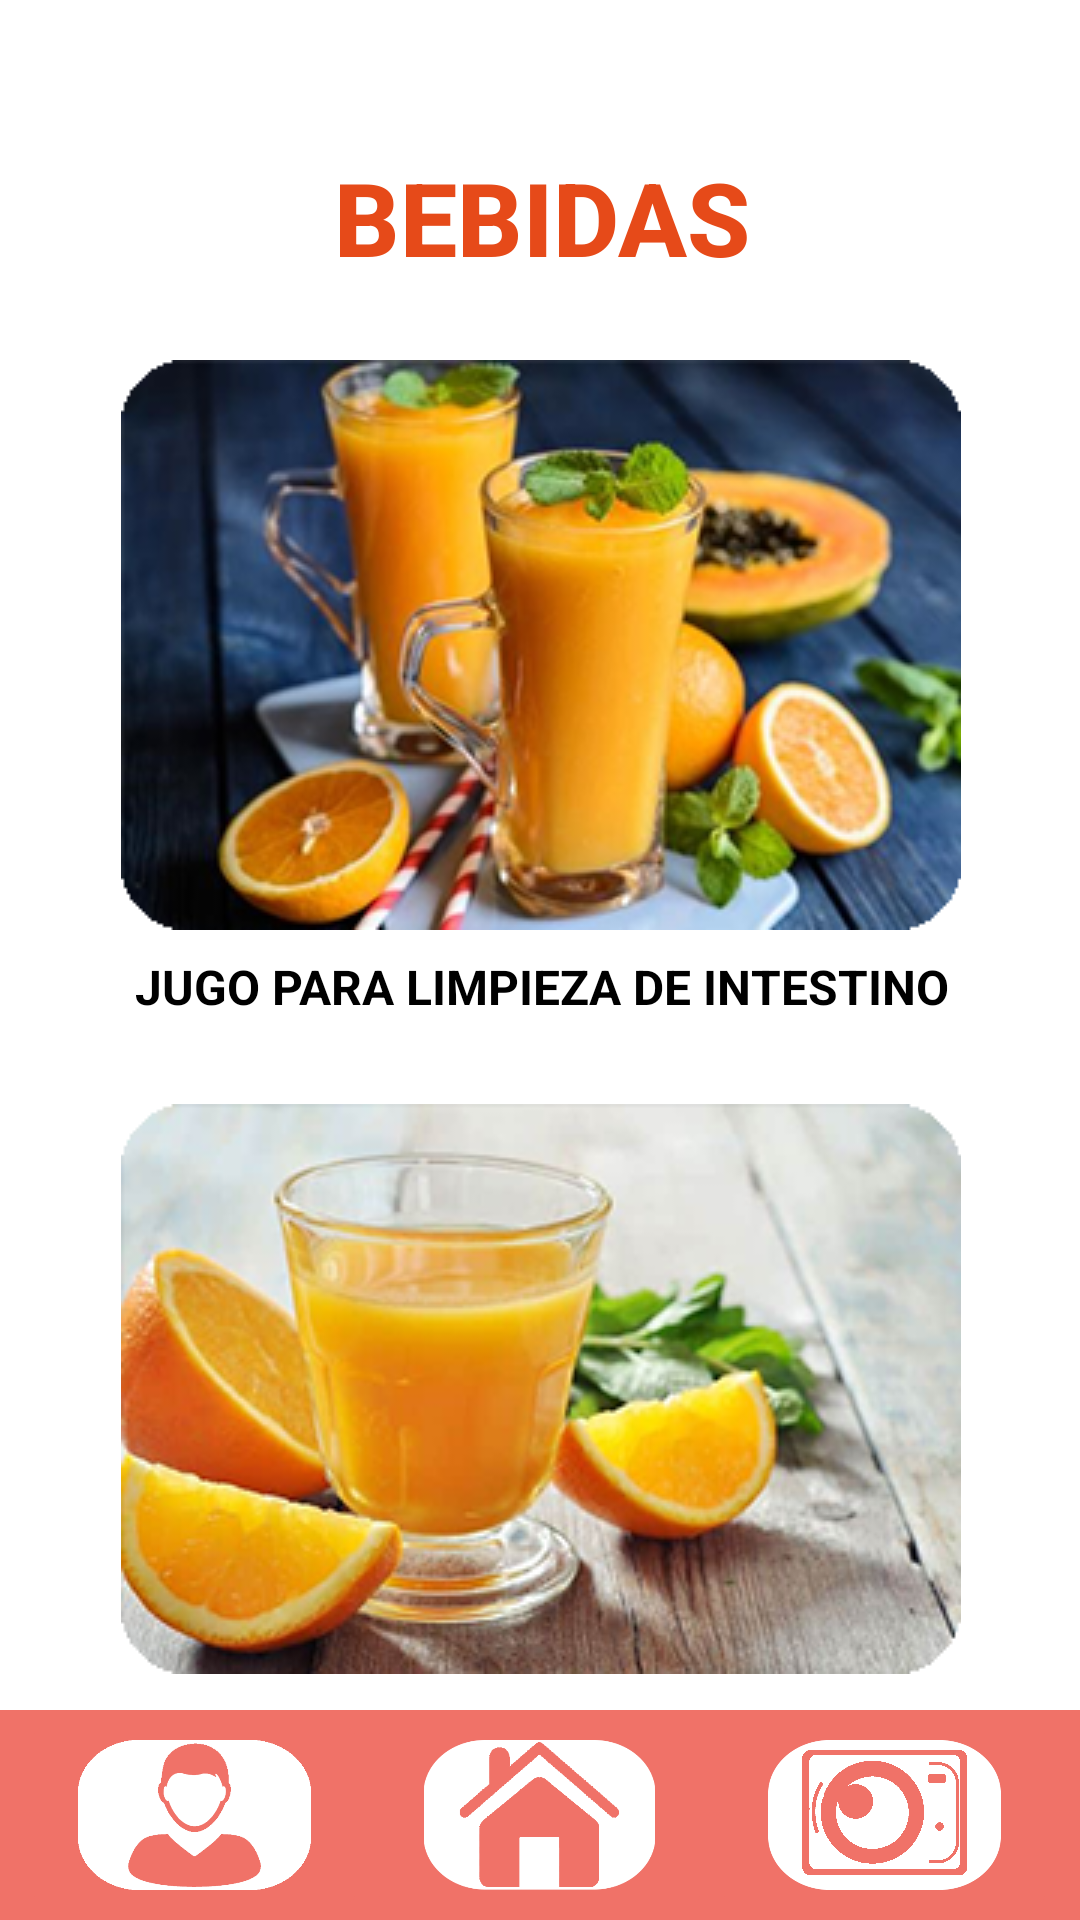

Icons on this 1080x1920 Android screen, each with the point to tap as point (x, y):
casa on: point (539, 1815)
user on: point (194, 1815)
